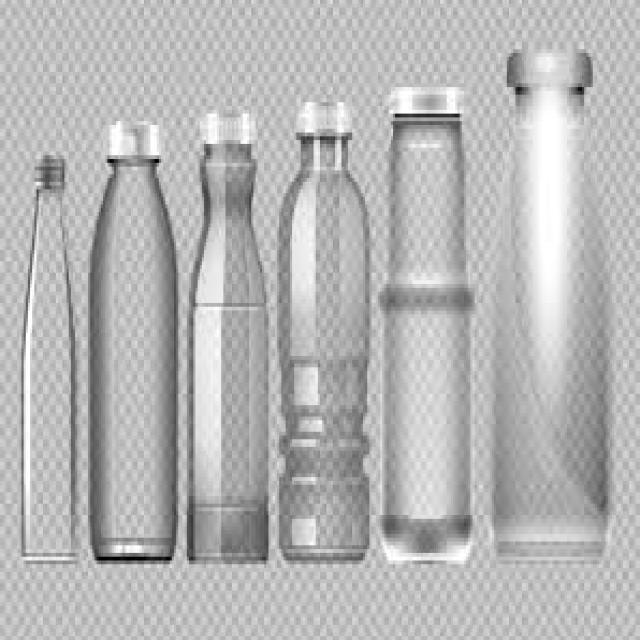glass: (485, 83, 606, 557), (376, 114, 472, 561), (275, 133, 369, 561), (86, 156, 178, 565), (185, 144, 269, 564), (19, 186, 75, 561)
metal: (505, 46, 589, 80), (105, 117, 159, 163), (389, 84, 460, 118), (294, 95, 350, 133), (204, 106, 253, 144), (30, 148, 62, 186)
